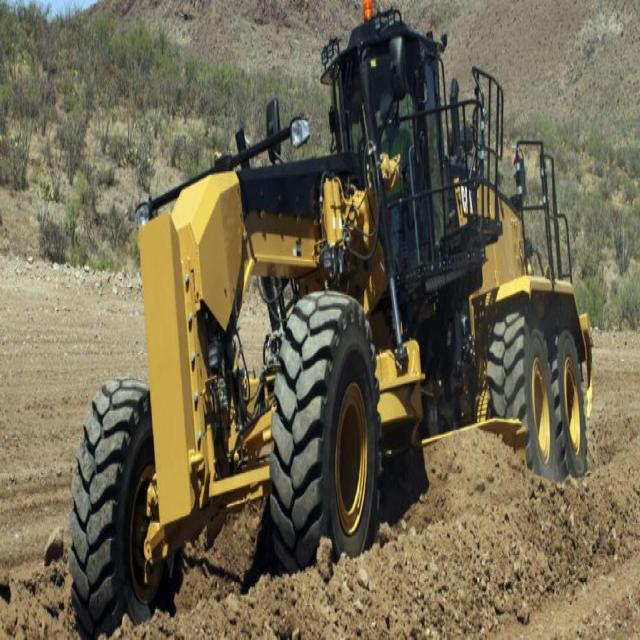Grader: (59, 5, 599, 639)
